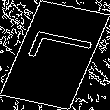L_E: (14, 33, 96, 77)
